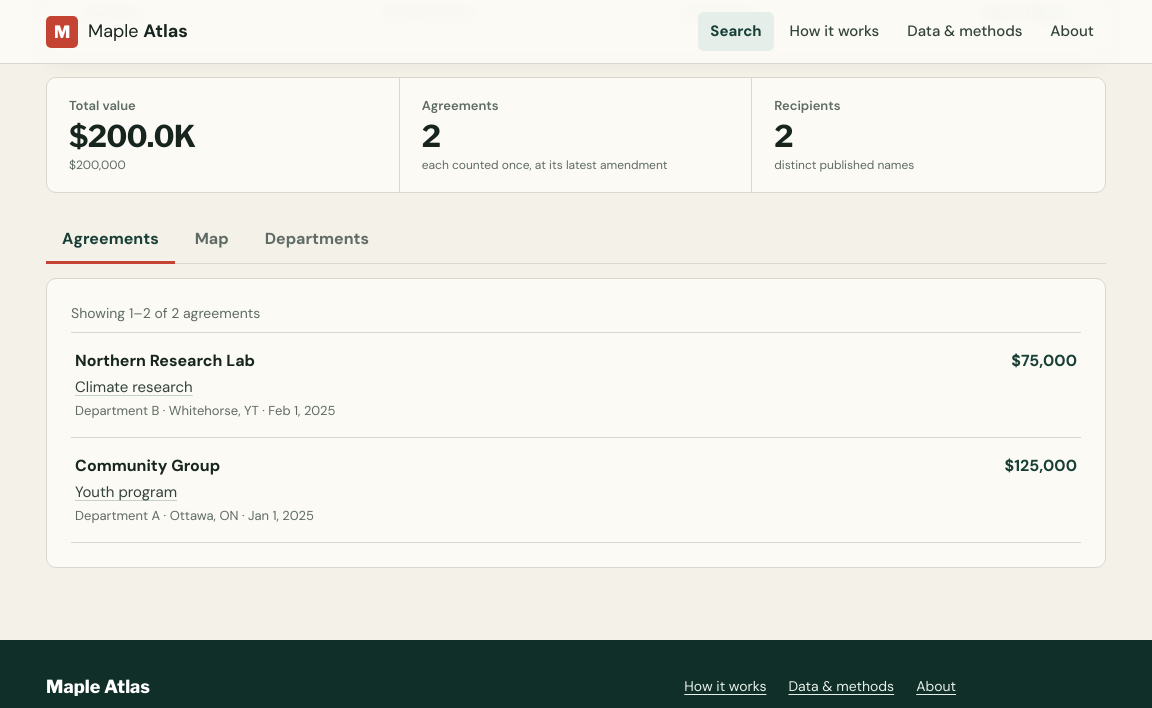
Test: site › opens a recipient profile at its own address
(page scrolled)
Click the link "Northern Research Lab": coordinates (165, 360) [75,350,255,371]
(page scrolled)
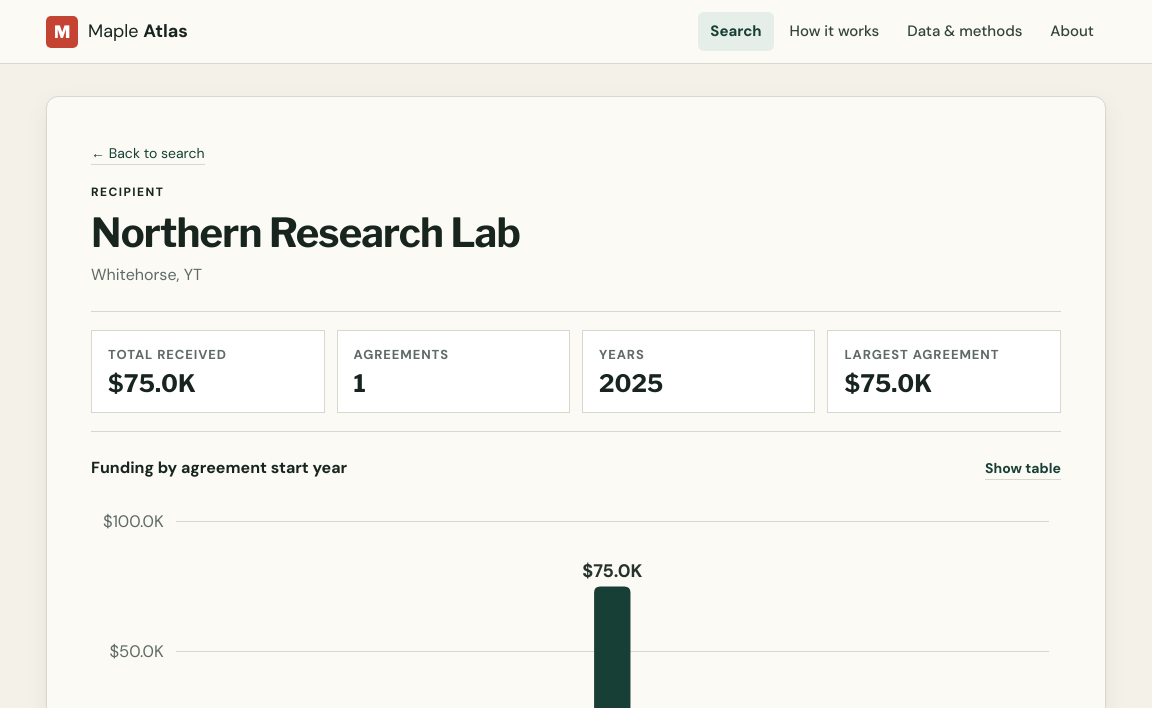
Expected: the heading "Northern Research Lab" is shown, [91,208,520,257]
Now the button "← Back to search" is shown, box [91,143,205,165]
